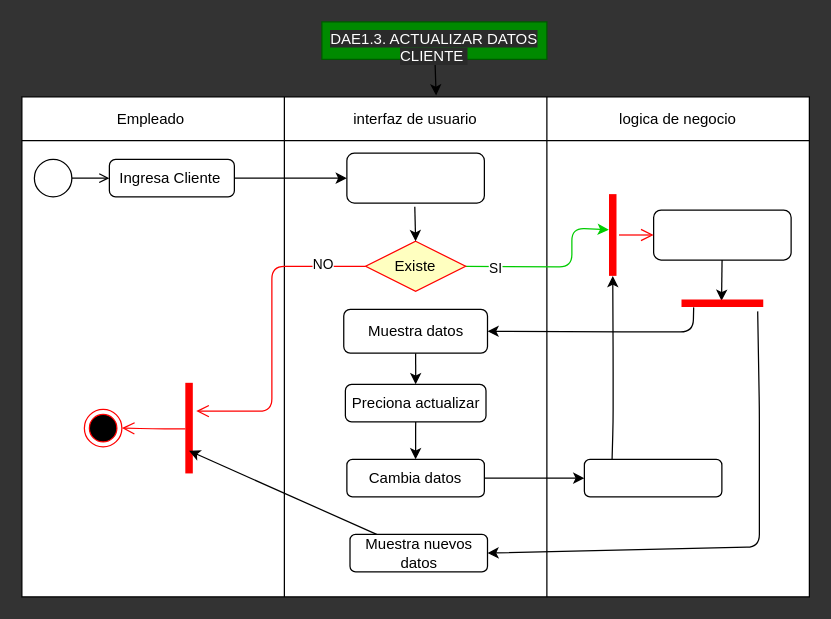
The diagram is 831 pixels wide and 619 high, and some of its shapes have lost their labels. The shapes that lost their labels are listed below. From the top down, each one's box as (x1, y1, x2, y2) in pixels, then its label:
(346, 152, 484, 203): Valida registro
(652, 209, 791, 260): Consulta datos
(583, 458, 722, 497): Almacena Cambio de datos
